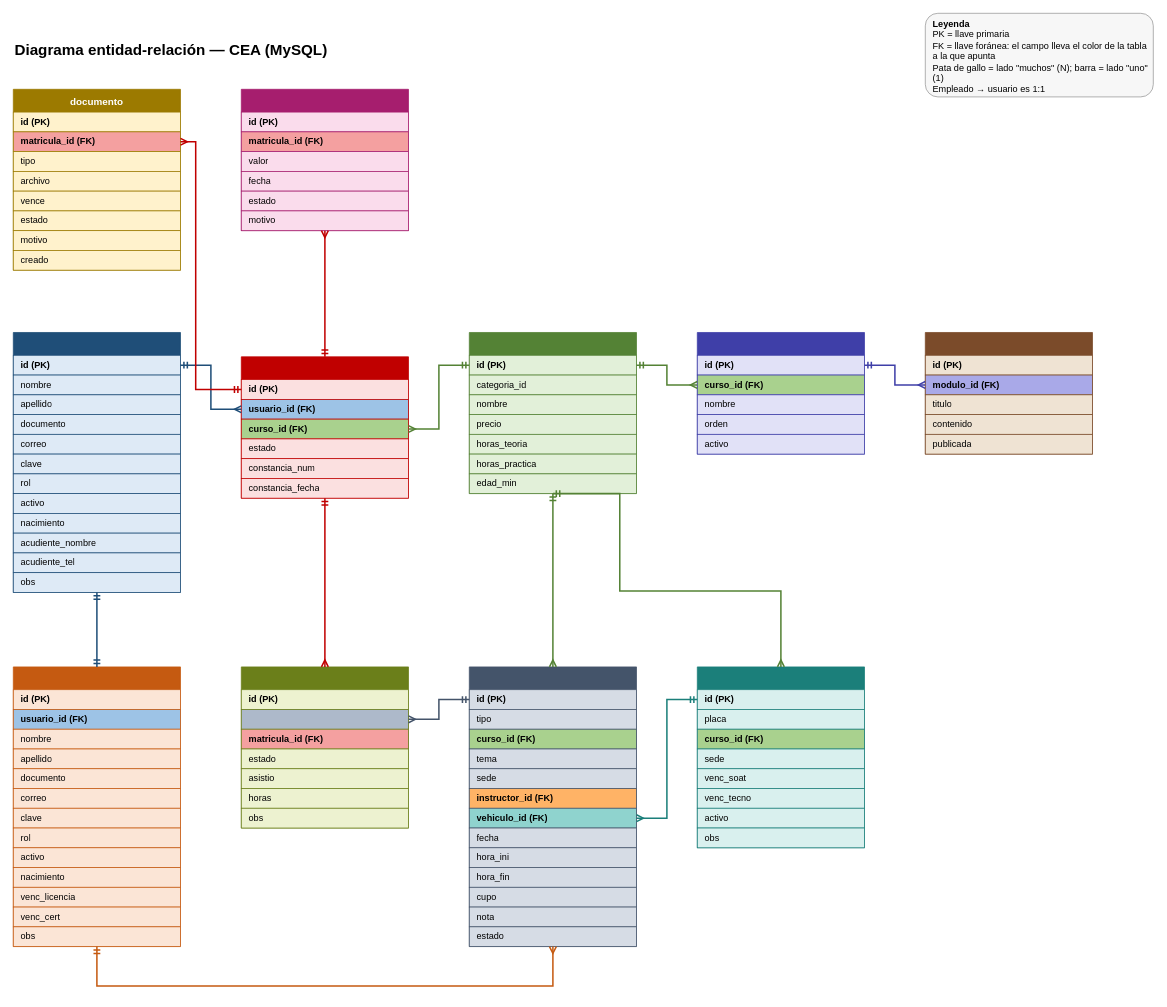
This 1167x1007 diagram has some shape labels left out. The box of each missing label's shape, as (x1, y1, x2, y2) in pixels:
agendamiento: (241, 666, 408, 828)
clase: (469, 666, 636, 947)
clase_id (FK): (241, 709, 408, 729)
curso: (469, 332, 636, 494)
Empleado: (13, 666, 180, 947)
leccion: (925, 332, 1092, 454)
matricula: (241, 356, 408, 498)
modulo: (697, 332, 864, 454)
pago: (241, 89, 408, 231)
usuario: (13, 332, 180, 592)
vehiculo: (697, 666, 864, 848)
